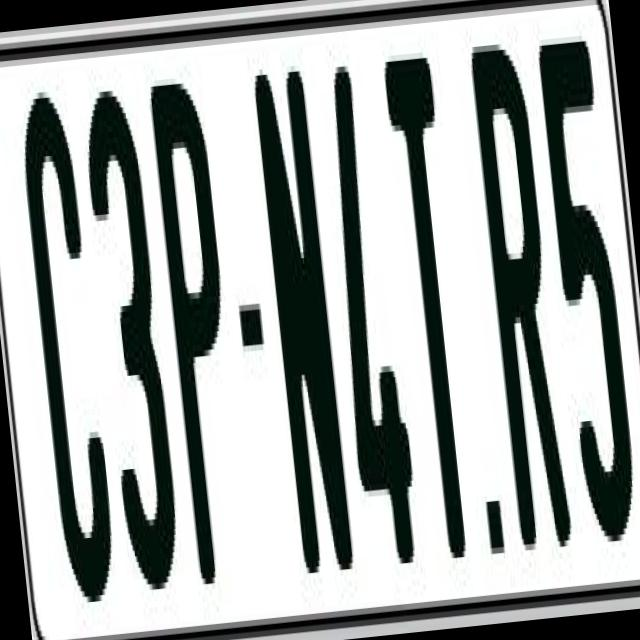3: (76, 82, 184, 586)
4: (314, 58, 424, 578)
5: (533, 34, 640, 549)
C: (13, 78, 119, 621)
N: (250, 70, 358, 574)
P: (148, 76, 258, 602)
R: (466, 41, 574, 562)
T: (382, 56, 488, 588)
